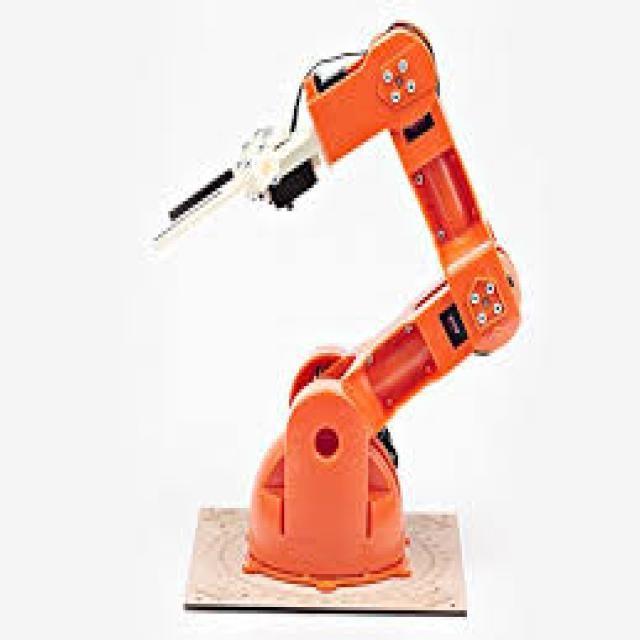Robotic-arm: (142, 15, 529, 605)
